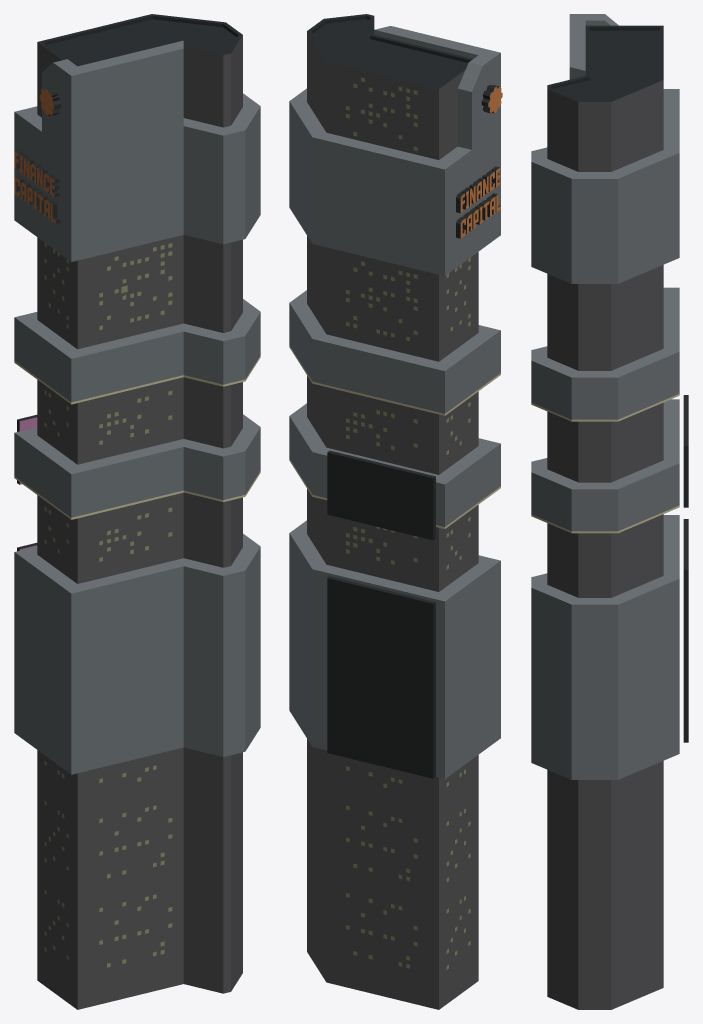
The model's file is hotel2.fbx.
3 views of the same model, side by side, from view 1: azimuth 30°, elevation 25°; view 2: azimuth 150°, elevation 25°; view 3: azimuth 270°, elevation 25° (orthographic). The views are drawn at different scales.
Visible parts, largest first — view 1: Cuberpunk2077.003; view 2: Cuberpunk2077.003; view 3: Cuberpunk2077.003.
Part boxes in pixels (left/top/right/bottom): Cuberpunk2077.003: left=14, top=14, right=260, bottom=1009; Cuberpunk2077.003: left=289, top=14, right=502, bottom=1009; Cuberpunk2077.003: left=531, top=14, right=688, bottom=1009.
Size of the model in its own units: 1598 by 7203 by 1127.
